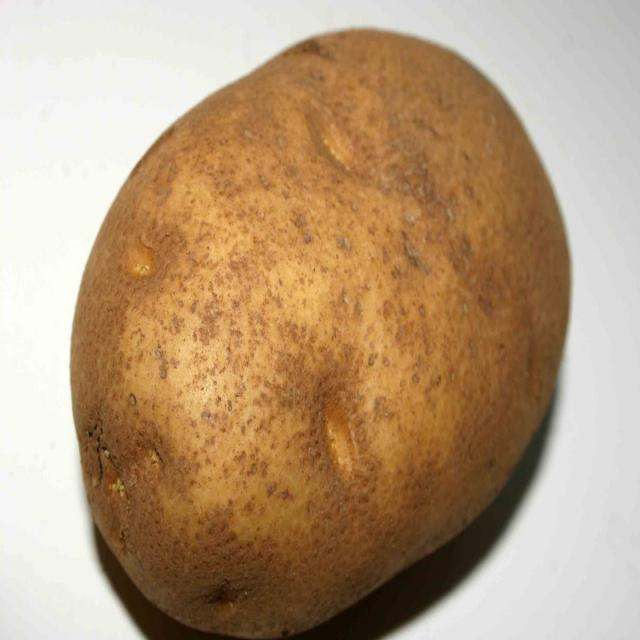potato: (62, 17, 575, 635)
